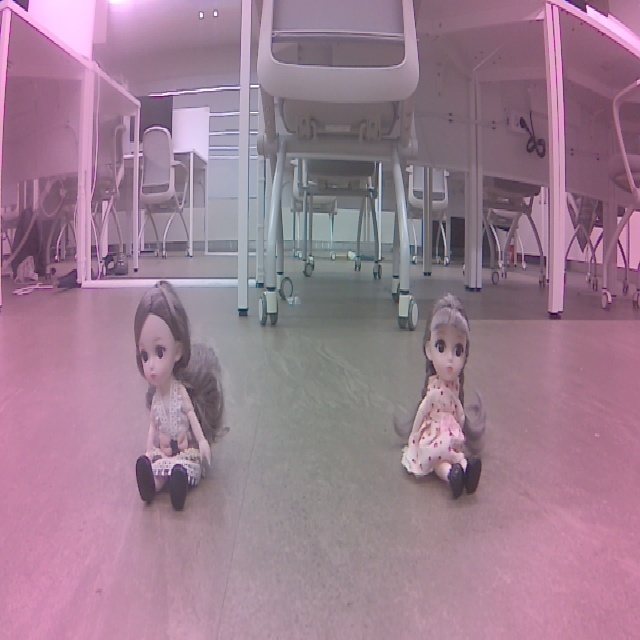장애물: (132, 267, 276, 488), (512, 272, 621, 497)
